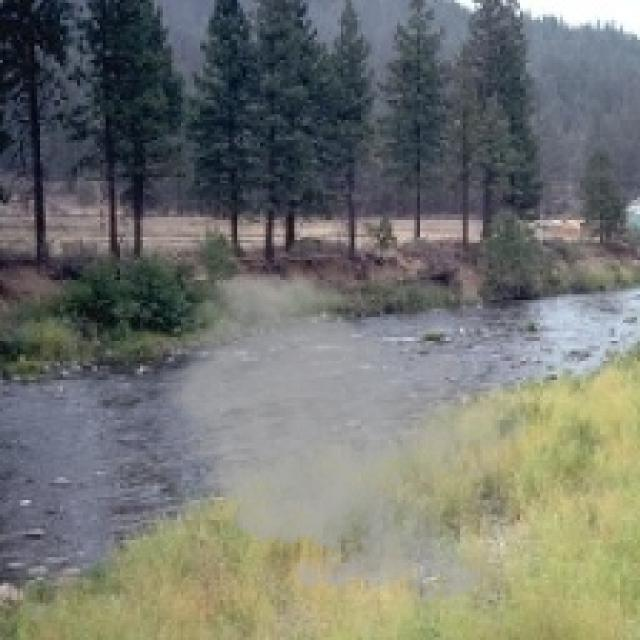Smoke: (148, 262, 532, 614)
